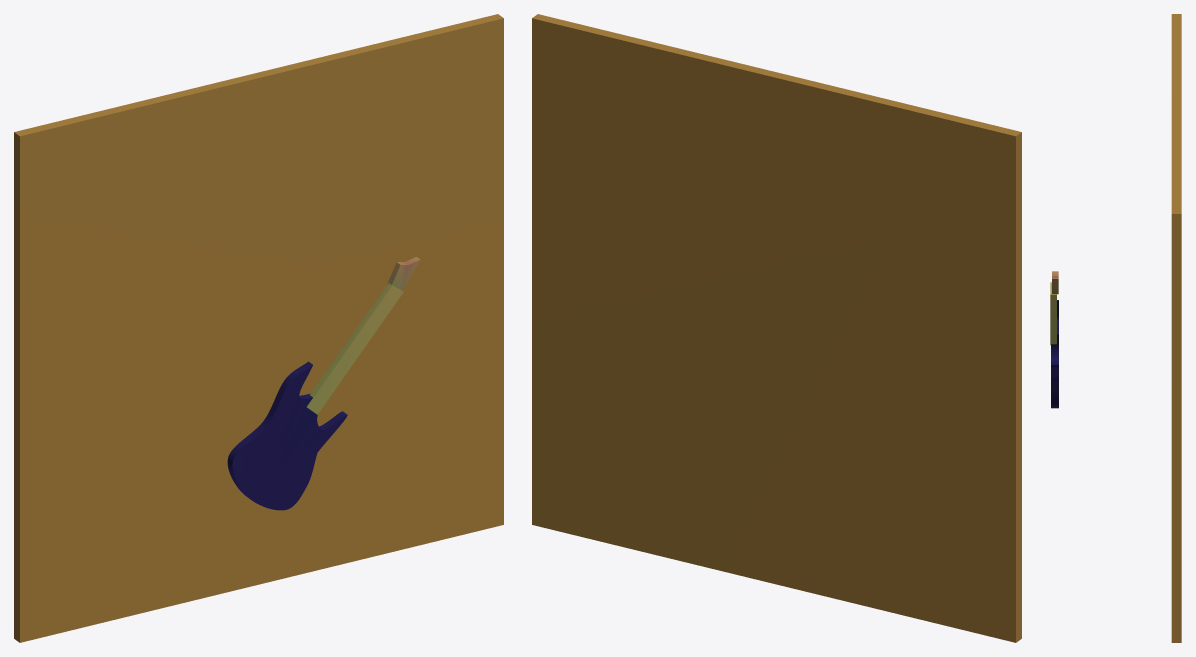
The picture shows the model from 3 angles, left to right: view 1: azimuth 30°, elevation 25°; view 2: azimuth 150°, elevation 25°; view 3: azimuth 270°, elevation 25°; orthographic projection. The views are drawn at different scales.
Parts seen in each view (by area): view 1: panel, body, neck; view 2: panel; view 3: panel, body, neck.
Part boxes in pixels (<box>): panel: <box>14,14,503,642</box>; body: <box>227,361,347,510</box>; neck: <box>307,283,403,414</box>; panel: <box>532,14,1021,642</box>; panel: <box>1171,14,1181,642</box>; body: <box>1051,300,1058,408</box>; neck: <box>1050,282,1056,345</box>.
Size of the model in its own units: 1 by 1 by 0.2778.
